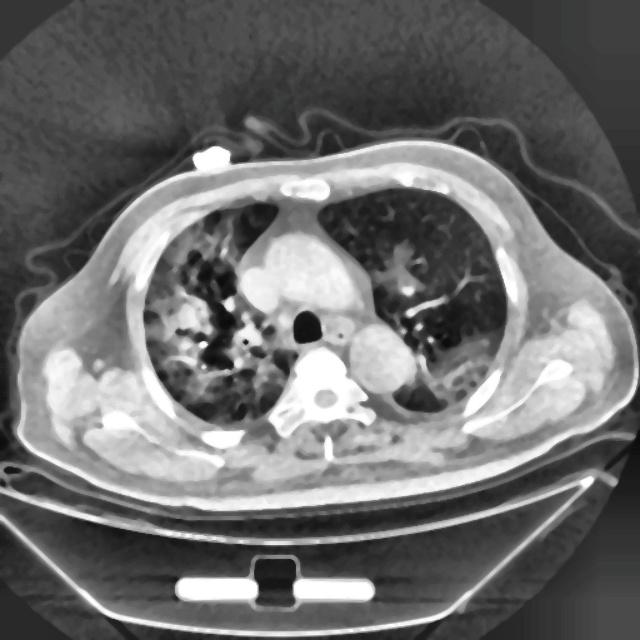covid: (13, 129, 637, 515)
